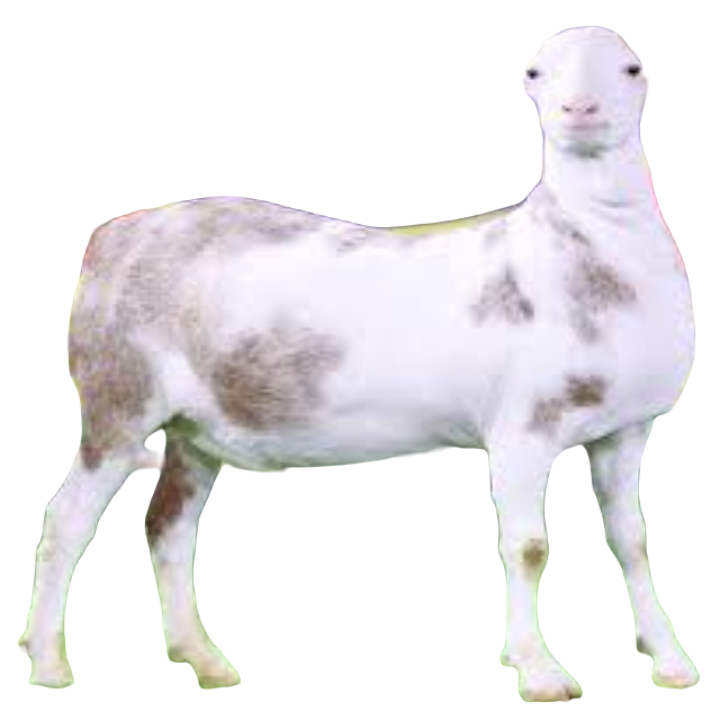Goat: (19, 28, 701, 707)
